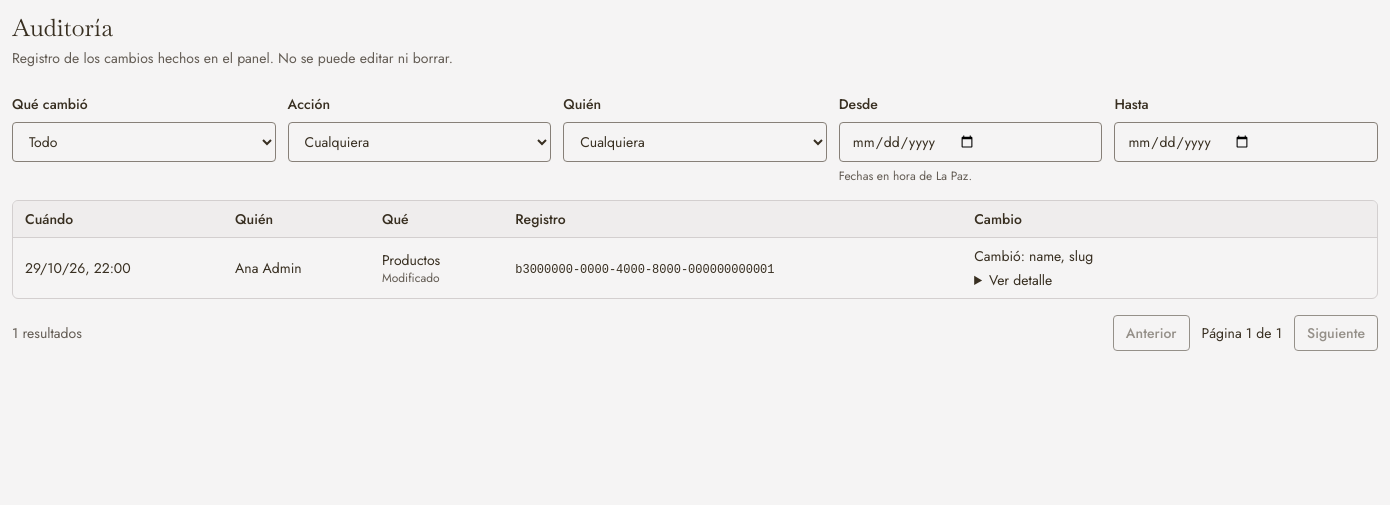
Test: AuditPage › el detalle empieza cerrado y al abrirlo muestra cada columna con su valor anterior y el nuevo
Expected: the table named "Auditoría" is shown, [13,201,1377,298]
Click the heading "Ver detalle". click: (1059, 280)
box: [989,269,1129,290]
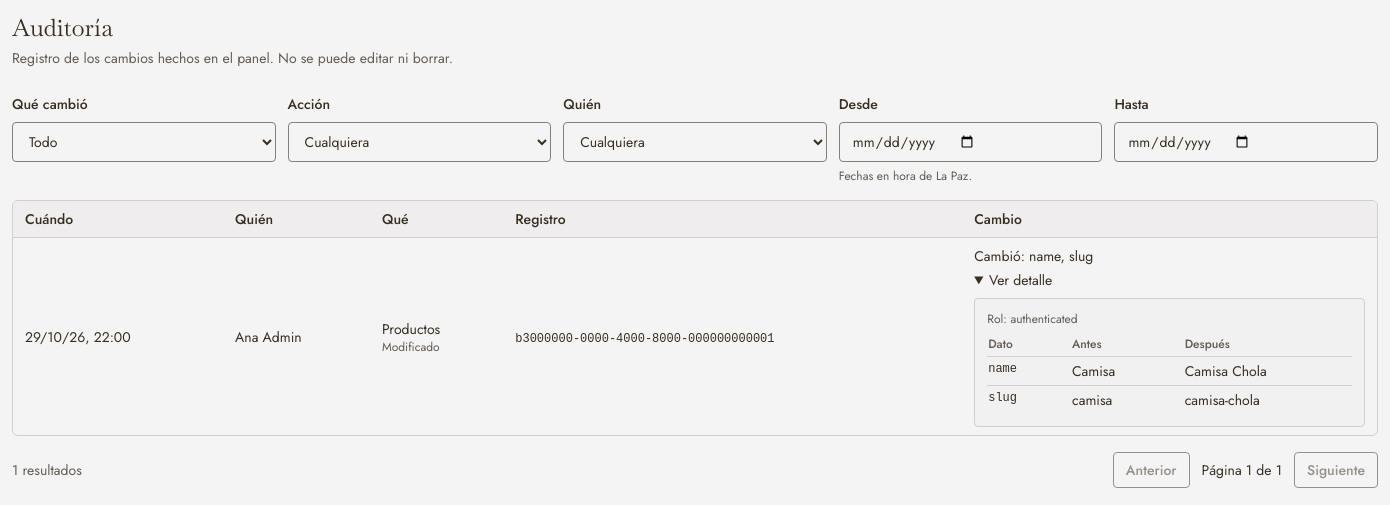
Now the column heading "Antes" is shown, box [1071,335,1184,356]
Now the column heading "Después" is shown, box [1184,335,1352,356]
Now the column heading "name" is shown, box [987,356,1071,386]
